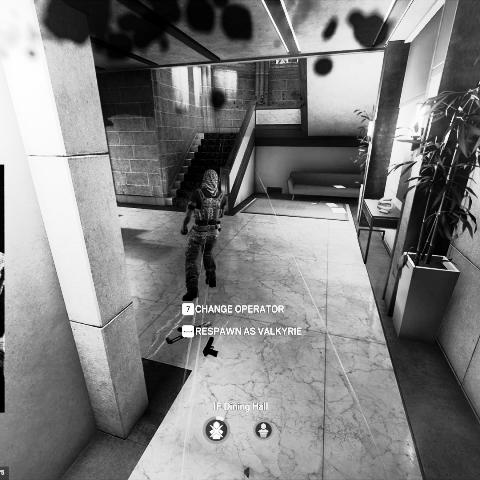Character: (179, 167, 229, 304)
Head: (202, 168, 220, 192)
